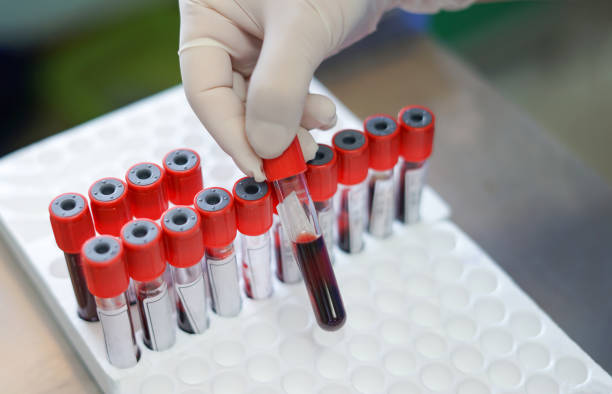blood: (292, 231, 348, 331), (59, 248, 98, 325), (204, 246, 236, 314), (136, 280, 165, 351), (337, 185, 357, 256), (123, 282, 140, 364), (394, 159, 413, 222), (365, 175, 380, 239), (173, 301, 198, 337), (272, 229, 286, 284), (241, 262, 254, 299)
